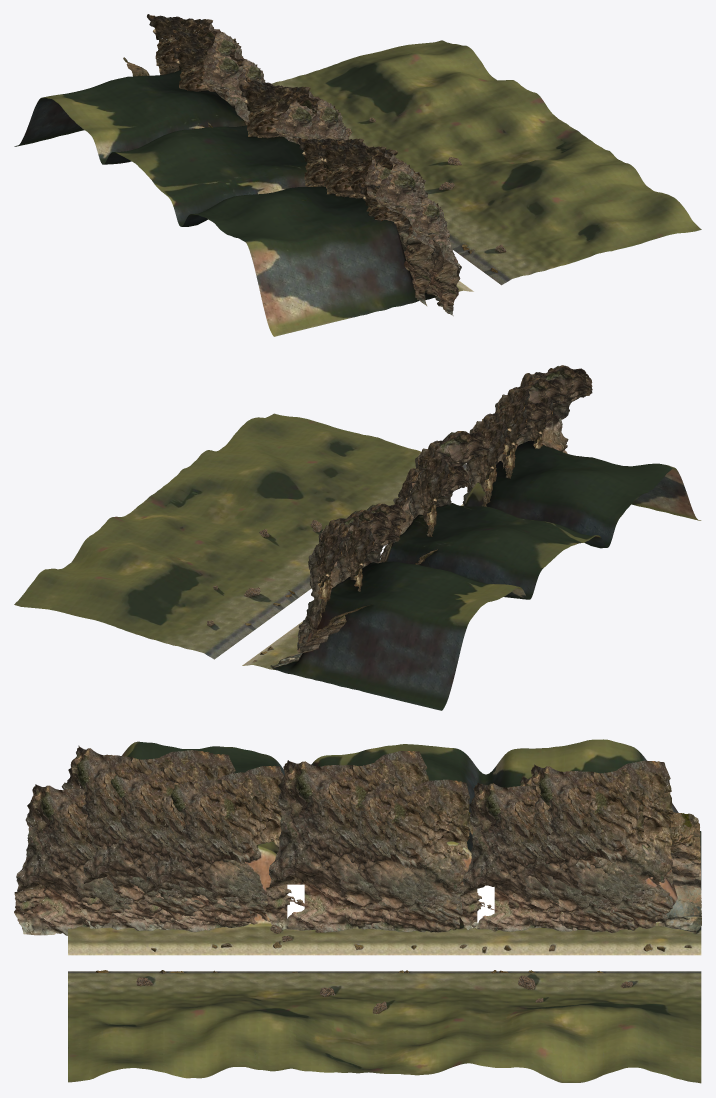
File: fjord.glb
The picture shows the model from 3 angles, top to bottom: view 1: azimuth 30°, elevation 25°; view 2: azimuth 150°, elevation 25°; view 3: azimuth 270°, elevation 25°; orthographic projection. The views are drawn at different scales.
Visible parts, largest first — view 1: Terrain, mountainside.1, mountainside.0, mountainside.5, mountainside.10, mountainside.9, mountainside.8, mountainside.2, mountainside.4, mountainside.6; view 2: Terrain, mountainside.5, mountainside.10, mountainside.1, mountainside.2, mountainside.4, mountainside.8, mountainside.6, mountainside.9, rock_face_01.11, mountainside.3, mountainside.0; view 3: Terrain, mountainside.10, mountainside.5, mountainside.6, mountainside.4, mountainside.0, mountainside.8, mountainside.2, mountainside.1, mountainside.9, rock_face_01.11, mountainside.3.
Boxes of the visible parts, x1=… form: Terrain: x1=14, y1=40, x2=701, y2=336; mountainside.1: x1=335, y1=140, x2=435, y2=306; mountainside.0: x1=358, y1=183, x2=461, y2=316; mountainside.5: x1=239, y1=84, x2=348, y2=140; mountainside.10: x1=147, y1=14, x2=255, y2=109; mountainside.9: x1=171, y1=29, x2=253, y2=125; mountainside.8: x1=172, y1=47, x2=265, y2=107; mountainside.2: x1=318, y1=144, x2=435, y2=288; mountainside.4: x1=298, y1=138, x2=377, y2=186; mountainside.6: x1=245, y1=78, x2=315, y2=160; Terrain: x1=14, y1=413, x2=701, y2=710; mountainside.5: x1=408, y1=431, x2=489, y2=536; mountainside.10: x1=297, y1=509, x2=391, y2=659; mountainside.1: x1=502, y1=365, x2=592, y2=468; mountainside.2: x1=495, y1=377, x2=566, y2=478; mountainside.4: x1=462, y1=405, x2=537, y2=506; mountainside.8: x1=336, y1=503, x2=406, y2=591; mountainside.6: x1=378, y1=463, x2=469, y2=563; mountainside.9: x1=307, y1=518, x2=399, y2=626; rock_face_01.11: x1=270, y1=604, x2=372, y2=667; mountainside.3: x1=486, y1=400, x2=551, y2=482; mountainside.0: x1=527, y1=379, x2=592, y2=448; Terrain: x1=68, y1=739, x2=701, y2=1083; mountainside.10: x1=508, y1=760, x2=673, y2=931; mountainside.5: x1=265, y1=751, x2=429, y2=932; mountainside.6: x1=324, y1=779, x2=469, y2=932; mountainside.4: x1=143, y1=766, x2=287, y2=931; mountainside.0: x1=14, y1=784, x2=139, y2=935; mountainside.8: x1=460, y1=782, x2=566, y2=931; mountainside.2: x1=81, y1=754, x2=235, y2=930; mountainside.1: x1=46, y1=745, x2=218, y2=924; mountainside.9: x1=514, y1=775, x2=643, y2=932; rock_face_01.11: x1=658, y1=812, x2=701, y2=934; mountainside.3: x1=118, y1=772, x2=266, y2=929.
Size of the model in its own units: 190 by 58.41 by 217.
6 materials, 5 textured.
